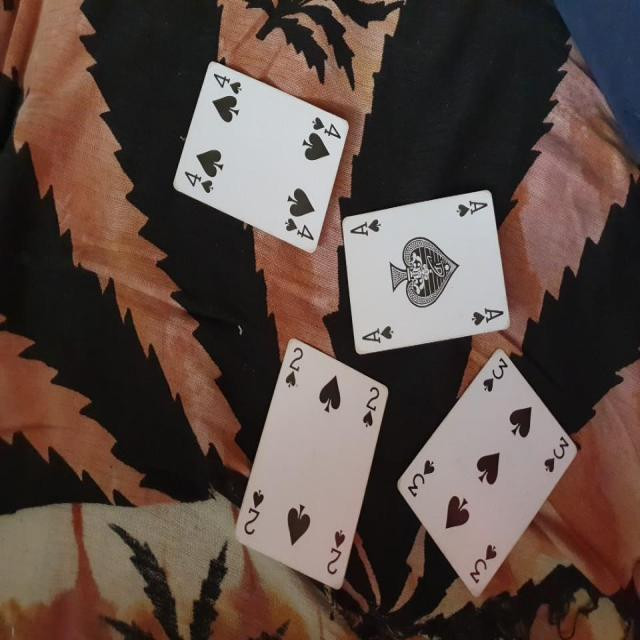2 of spades: (227, 340, 391, 590)
3 of spades: (390, 344, 580, 596)
4 of spades: (169, 55, 351, 254)
ace of spades: (338, 190, 517, 356)
